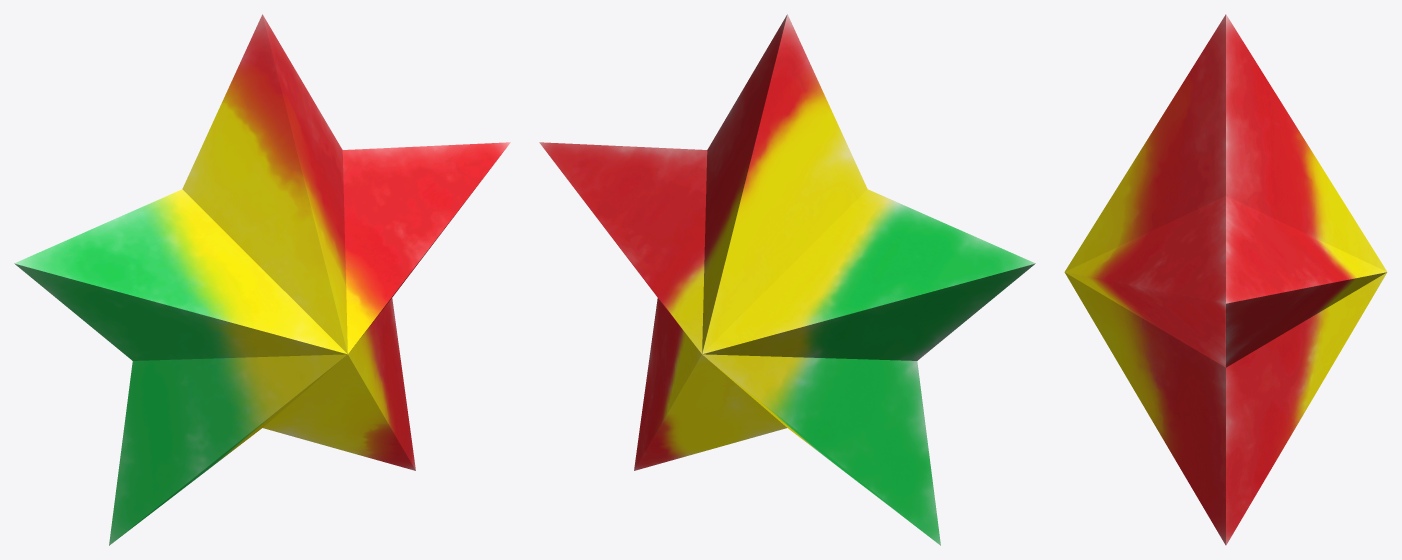
Rendered from Star.fbx.
The picture shows the model from 3 angles, left to right: view 1: azimuth 30°, elevation 25°; view 2: azimuth 150°, elevation 25°; view 3: azimuth 270°, elevation 25°; orthographic projection. The views are drawn at different scales.
Visible parts, largest first — view 1: node_id3; view 2: node_id3; view 3: node_id3.
Boxes of the visible parts, box(x1,y1,x2,y2) form: node_id3: box(14, 14, 510, 545); node_id3: box(539, 14, 1035, 545); node_id3: box(1064, 14, 1387, 545).
Size of the model in its own units: 0.512 by 0.4869 by 0.3086.
1 material, 1 textured.
